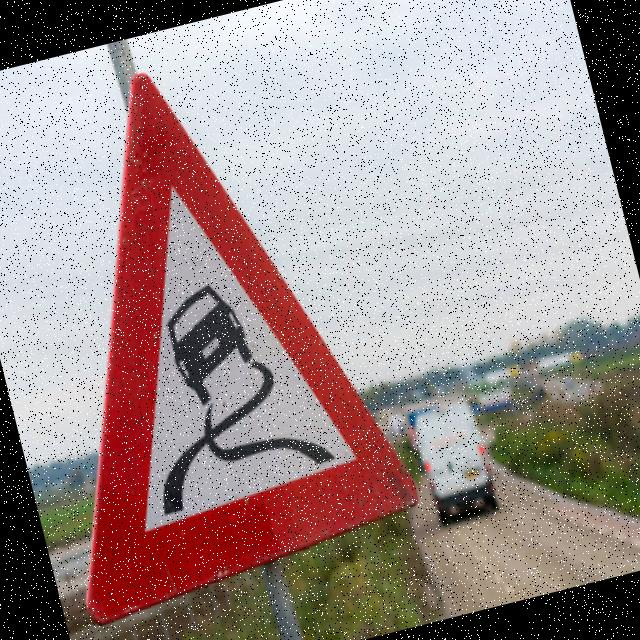road_slippery: (0, 25, 441, 640)
